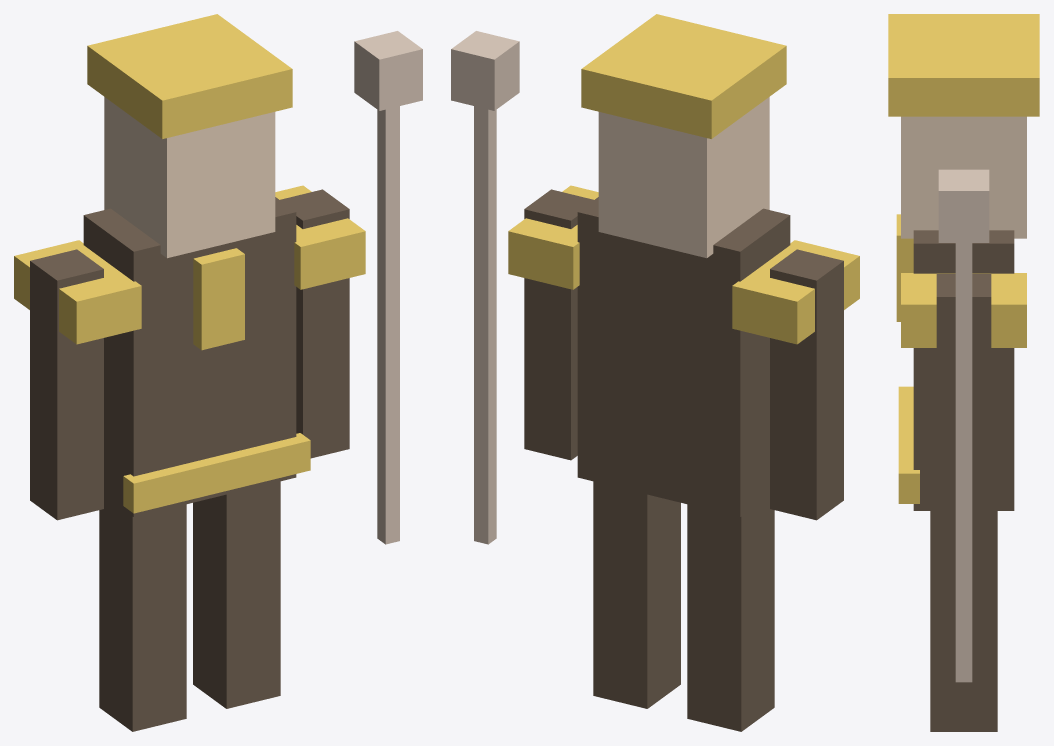
File: 11_varren_gravesong_broker_of_command.glb
3 renders of one model, left to right at view 1: azimuth 30°, elevation 25°; view 2: azimuth 150°, elevation 25°; view 3: azimuth 270°, elevation 25°, orthographic.
Parts seen in each view (by area): view 1: Varren Gravesong, Broker of Command; view 2: Varren Gravesong, Broker of Command; view 3: Varren Gravesong, Broker of Command.
Part boxes in pixels (x1,y1,x2,y2): Varren Gravesong, Broker of Command: [14, 14, 422, 731]; Varren Gravesong, Broker of Command: [451, 14, 859, 731]; Varren Gravesong, Broker of Command: [888, 14, 1039, 731].
Bounding box in the file's own units: 0.9979 × 1.68 × 0.3539.
